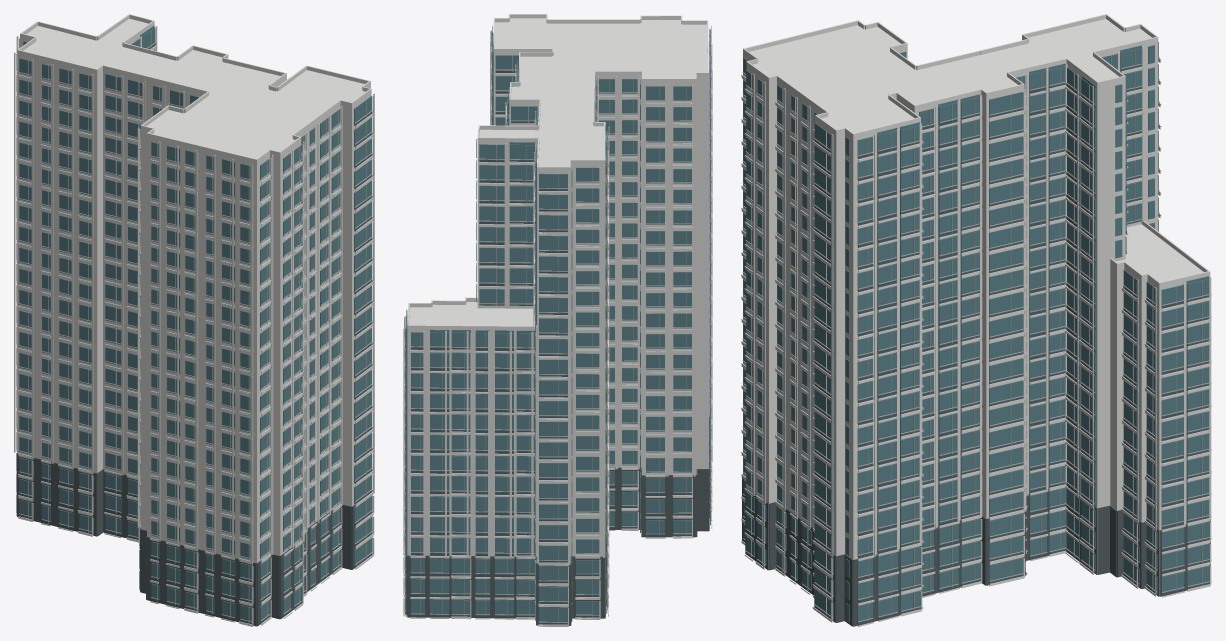
File: bespoke-acro-riverpark-111.glb
The picture shows the model from 3 angles, left to right: view 1: azimuth 30°, elevation 25°; view 2: azimuth 150°, elevation 25°; view 3: azimuth 270°, elevation 25°; orthographic projection. The views are drawn at different scales.
Visible parts, largest first — view 1: 111_R01_body, 111_R01_glass, 111_R01_white, 111_R02_body, 111_R02_glass, 111_R02_white, 111_R01_frame, 111_R01_dark, 111_R02_frame, 111_R02_dark; view 2: 111_R01_body, 111_R02_glass, 111_R01_glass, 111_R00_glass, 111_R01_white, 111_R02_body, 111_R02_white, 111_R00_white, 111_R00_body, 111_R00_dark, 111_R01_frame, 111_R02_dark (+3 smaller); view 3: 111_R01_glass, 111_R01_body, 111_R01_white, 111_R02_glass, 111_R02_body, 111_R00_glass, 111_R01_dark, 111_R01_frame, 111_R02_white, 111_R00_body, 111_R00_white, 111_R02_dark (+3 smaller).
Boxes of the visible parts, x1,y1,x2,y2 form: 111_R01_body: (140,50,371,562); 111_R01_glass: (151,85,372,622); 111_R01_white: (137,45,374,626); 111_R02_body: (17,18,176,535); 111_R02_glass: (19,25,155,538); 111_R02_white: (14,14,176,542); 111_R01_frame: (140,86,372,622); 111_R01_dark: (140,111,372,626); 111_R02_frame: (19,31,155,539); 111_R02_dark: (16,43,155,539); 111_R01_body: (493,18,708,475); 111_R02_glass: (476,107,607,622); 111_R01_glass: (492,26,710,534); 111_R00_glass: (405,309,535,615); 111_R01_white: (490,14,712,538); 111_R02_body: (477,103,605,616); 111_R02_white: (477,99,609,626); 111_R00_white: (403,297,536,619); 111_R00_body: (407,302,536,556); 111_R00_dark: (405,345,536,618); 111_R01_frame: (491,29,711,535); 111_R02_dark: (479,159,606,625); 111_R01_glass: (743,51,1024,623); 111_R01_body: (743,25,1024,625); 111_R01_white: (741,20,1027,626); 111_R02_glass: (1016,42,1158,571); 111_R02_body: (981,19,1158,574); 111_R00_glass: (1123,270,1209,593); 111_R01_dark: (742,108,1025,626); 111_R01_frame: (742,72,1025,622); 111_R02_white: (980,14,1161,574); 111_R00_body: (1110,224,1210,596); 111_R00_white: (1110,221,1211,597); 111_R02_dark: (1025,58,1159,574).
Size of the model in its own units: 41.86 by 79 by 68.44.
